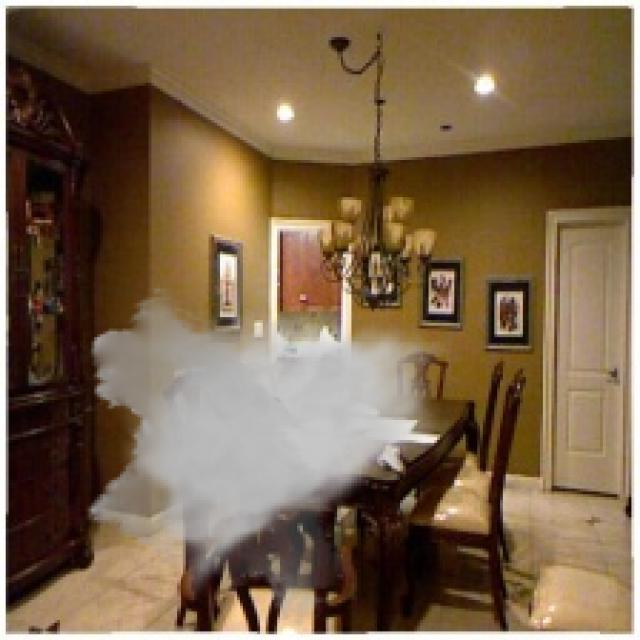smoke: (80, 286, 451, 628)
